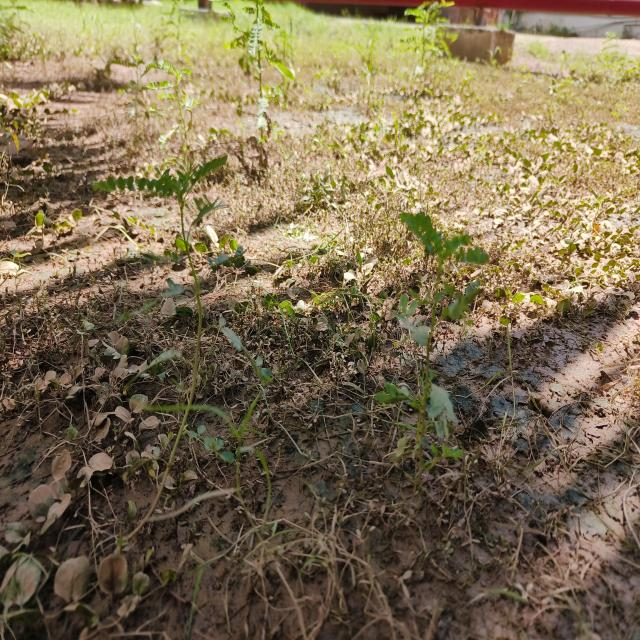weed: (359, 206, 495, 430), (100, 159, 231, 359)
